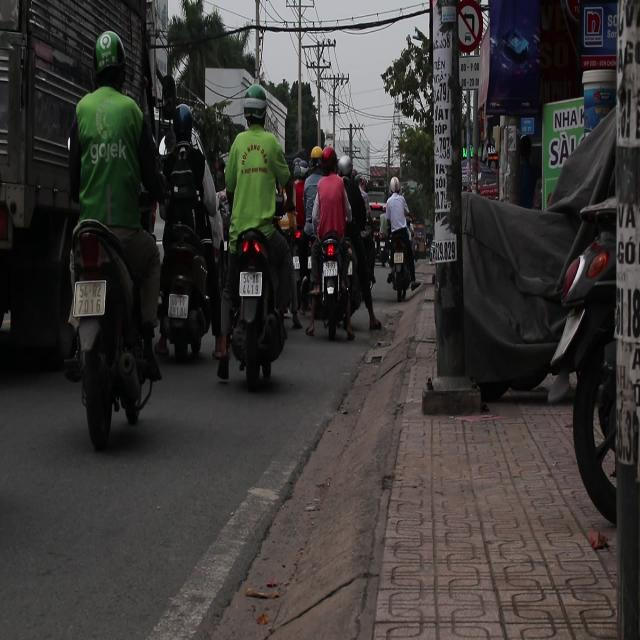motorbike: (68, 214, 164, 448), (221, 222, 288, 388), (156, 224, 212, 363), (301, 214, 355, 344)
truck: (1, 12, 89, 374)
